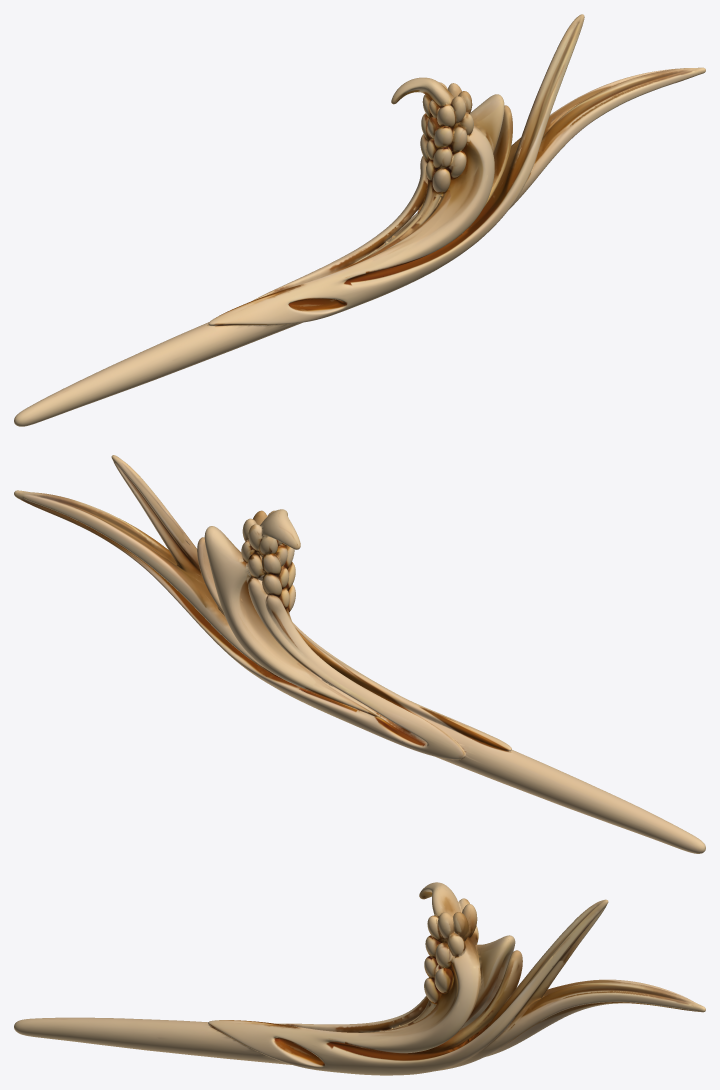
Rendered from award-17.glb.
The picture shows the model from 3 angles, top to bottom: view 1: azimuth 30°, elevation 25°; view 2: azimuth 150°, elevation 25°; view 3: azimuth 330°, elevation 25°; orthographic projection.
Visible parts, largest first — view 1: node_0; view 2: node_0; view 3: node_0.
Part boxes in pixels (x1,y1,x2,y2): node_0: (14,14,705,426); node_0: (14,455,705,853); node_0: (14,882,705,1075).
Size of the model in its own units: 1.13 by 0.4151 by 0.0985.
Materials: 1 (1 with a texture image).
